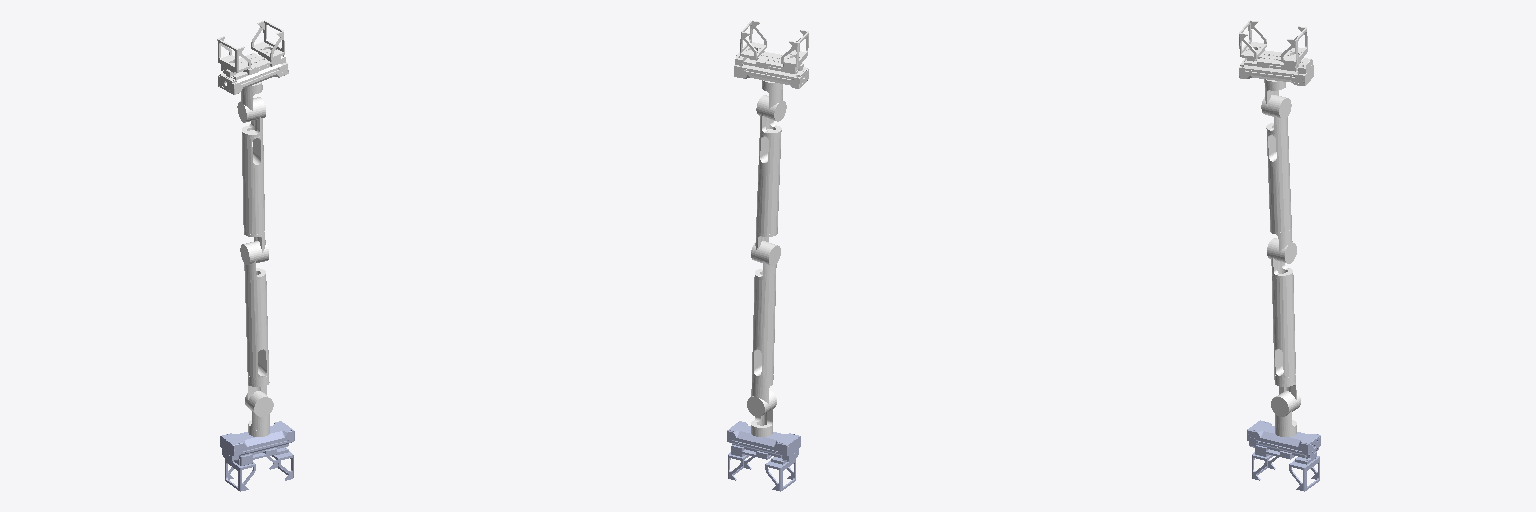
robot.urdf — X-Climbot:
<?xml version="1.0" encoding="utf-8"?>
<!-- This URDF was automatically created by SolidWorks to URDF Exporter! Originally created by [author] ([email redacted])
     Commit Version: 1.6.0-4-g7f85cfe  Build Version: 1.6.7995.38578
     For more information, please see http://wiki.ros.org/sw_urdf_exporter -->
<robot
  name="X-Climbot">
  <link
    name="base_link">
    <inertial>
      <origin
        xyz="-0.00611466525824911 1.52266048728533E-05 -0.0458797101075132"
        rpy="0 0 0" />
      <mass
        value="0.793310893293405" />
      <inertia
        ixx="0.000488697994170795"
        ixy="1.94308375834106E-05"
        ixz="-3.60314189788114E-05"
        iyy="0.0021909412575143"
        iyz="6.04087570215711E-07"
        izz="0.002362105074245" />
    </inertial>
    <visual>
      <origin
        xyz="0 0 0"
        rpy="0 0 0" />
      <geometry>
        <mesh
          filename="package://X-Climbot/meshes/base_link.STL" />
      </geometry>
      <material
        name="">
        <color
          rgba="0.792156862745098 0.819607843137255 0.933333333333333 1" />
      </material>
    </visual>
    <collision>
      <origin
        xyz="0 0 0"
        rpy="0 0 0" />
      <geometry>
        <mesh
          filename="package://X-Climbot/meshes/base_link.STL" />
      </geometry>
    </collision>
  </link>
  <link
    name="l1">
    <inertial>
      <origin
        xyz="0.000840561963848629 0.0113875783222504 0.0400824119208252"
        rpy="0 0 0" />
      <mass
        value="0.1430626016653" />
      <inertia
        ixx="0.000115582358856404"
        ixy="7.81499715910119E-07"
        ixz="-1.12848931429923E-06"
        iyy="0.000126111630974415"
        iyz="-1.52836380116219E-05"
        izz="6.00693976013135E-05" />
    </inertial>
    <visual>
      <origin
        xyz="0 0 0"
        rpy="0 0 0" />
      <geometry>
        <mesh
          filename="package://X-Climbot/meshes/l1.STL" />
      </geometry>
      <material
        name="">
        <color
          rgba="1 1 1 1" />
      </material>
    </visual>
    <collision>
      <origin
        xyz="0 0 0"
        rpy="0 0 0" />
      <geometry>
        <mesh
          filename="package://X-Climbot/meshes/l1.STL" />
      </geometry>
    </collision>
  </link>
  <joint
    name="j1"
    type="continuous">
    <origin
      xyz="0 0 0"
      rpy="0 0 3.14159265358979" />
    <parent
      link="base_link" />
    <child
      link="l1" />
    <axis
      xyz="0 0 1" />
  </joint>
  <link
    name="l2">
    <inertial>
      <origin
        xyz="-9.63287409838642E-08 -0.0114185659312045 0.0162012482514264"
        rpy="0 0 0" />
      <mass
        value="0.14306262010604" />
      <inertia
        ixx="0.000115524424034121"
        ixy="2.99294251603093E-10"
        ixz="3.5137908355297E-10"
        iyy="0.000136684035722146"
        iyz="-1.53250606329366E-05"
        izz="4.95547653168109E-05" />
    </inertial>
    <visual>
      <origin
        xyz="0 0 0"
        rpy="0 0 0" />
      <geometry>
        <mesh
          filename="package://X-Climbot/meshes/l2.STL" />
      </geometry>
      <material
        name="">
        <color
          rgba="1 1 1 1" />
      </material>
    </visual>
    <collision>
      <origin
        xyz="0 0 0"
        rpy="0 0 0" />
      <geometry>
        <mesh
          filename="package://X-Climbot/meshes/l2.STL" />
      </geometry>
    </collision>
  </link>
  <joint
    name="j2"
    type="continuous">
    <origin
      xyz="0 0 0.0800000000000001"
      rpy="0 0.0289375288126048 -0.0736872405564034" />
    <parent
      link="l1" />
    <child
      link="l2" />
    <axis
      xyz="-0.00592711844275336 -0.999982419761838 -0.000171564051519822" />
  </joint>
  <link
    name="l3">
    <inertial>
      <origin
        xyz="0.00220880087049258 -2.1811668304117E-05 0.18510895301996"
        rpy="0 0 0" />
      <mass
        value="0.731691814404623" />
      <inertia
        ixx="0.00440475743452973"
        ixy="-1.0044055556359E-07"
        ixz="-1.48112615339781E-05"
        iyy="0.00442116921181217"
        iyz="1.49284620098977E-07"
        izz="0.00038619650944185" />
    </inertial>
    <visual>
      <origin
        xyz="0 0 0"
        rpy="0 0 0" />
      <geometry>
        <mesh
          filename="package://X-Climbot/meshes/l3.STL" />
      </geometry>
      <material
        name="">
        <color
          rgba="1 1 1 1" />
      </material>
    </visual>
    <collision>
      <origin
        xyz="0 0 0"
        rpy="0 0 0" />
      <geometry>
        <mesh
          filename="package://X-Climbot/meshes/l3.STL" />
      </geometry>
    </collision>
  </link>
  <joint
    name="j3"
    type="continuous">
    <origin
      xyz="0 0 0.0800000000000013"
      rpy="0 0.000127825682332594 0.00183898988794448" />
    <parent
      link="l2" />
    <child
      link="l3" />
    <axis
      xyz="-0.000128141190019915 -0.000171566775075488 0.999999977072338" />
  </joint>
  <link
    name="l4">
    <inertial>
      <origin
        xyz="-7.88980209281281E-05 -0.00392581915723023 0.202385115747512"
        rpy="0 0 0" />
      <mass
        value="0.832342235325522" />
      <inertia
        ixx="0.00452334968366428"
        ixy="1.23051855615029E-07"
        ixz="-3.46298344597399E-10"
        iyy="0.00452809686716942"
        iyz="-9.28294510352387E-11"
        izz="0.000411899190458377" />
    </inertial>
    <visual>
      <origin
        xyz="0 0 0"
        rpy="0 0 0" />
      <geometry>
        <mesh
          filename="package://X-Climbot/meshes/l4.STL" />
      </geometry>
      <material
        name="">
        <color
          rgba="1 1 1 1" />
      </material>
    </visual>
    <collision>
      <origin
        xyz="0 0 0"
        rpy="0 0 0" />
      <geometry>
        <mesh
          filename="package://X-Climbot/meshes/l4.STL" />
      </geometry>
    </collision>
  </link>
  <joint
    name="j4"
    type="continuous">
    <origin
      xyz="-4.87188928522952E-05 -7.89207165349803E-05 0.379999990106851"
      rpy="0.000127841608446275 -0.0185670506826425 -1.58057542076899" />
    <parent
      link="l3" />
    <child
      link="l4" />
    <axis
      xyz="0 -0.999999999999073 0" />
  </joint>
  <link
    name="l5">
    <inertial>
      <origin
        xyz="7.87788012611979E-05 -0.0114172583221583 0.0162035655941422"
        rpy="0 0 0" />
      <mass
        value="0.143061922937318" />
      <inertia
        ixx="0.000115524003812258"
        ixy="-1.60426335855584E-10"
        ixz="2.87594107321105E-10"
        iyy="0.000136683650857311"
        iyz="-1.53255513436982E-05"
        izz="4.95552955488083E-05" />
    </inertial>
    <visual>
      <origin
        xyz="0 0 0"
        rpy="0 0 0" />
      <geometry>
        <mesh
          filename="package://X-Climbot/meshes/l5.STL" />
      </geometry>
      <material
        name="">
        <color
          rgba="1 1 1 1" />
      </material>
    </visual>
    <collision>
      <origin
        xyz="0 0 0"
        rpy="0 0 0" />
      <geometry>
        <mesh
          filename="package://X-Climbot/meshes/l5.STL" />
      </geometry>
    </collision>
  </link>
  <joint
    name="j5"
    type="continuous">
    <origin
      xyz="0 0 0.439999999999592"
      rpy="0 0.0129068765606677 3.14159265358979" />
    <parent
      link="l4" />
    <child
      link="l5" />
    <axis
      xyz="0 0.999999999999073 0" />
  </joint>
  <link
    name="l6">
    <inertial>
      <origin
        xyz="-0.00580435778022192 -1.44530285602351E-05 0.0435513914361469"
        rpy="0 0 0" />
      <mass
        value="0.835722425678761" />
      <inertia
        ixx="0.000502039940519556"
        ixy="-1.94308094117804E-05"
        ixz="3.60314117214751E-05"
        iyy="0.00220428328751165"
        iyz="6.04087755501375E-07"
        izz="0.00238596164743948" />
    </inertial>
    <visual>
      <origin
        xyz="0 0 0"
        rpy="0 0 0" />
      <geometry>
        <mesh
          filename="package://X-Climbot/meshes/l6.STL" />
      </geometry>
      <material
        name="">
        <color
          rgba="1 1 1 1" />
      </material>
    </visual>
    <collision>
      <origin
        xyz="0 0 0"
        rpy="0 0 0" />
      <geometry>
        <mesh
          filename="package://X-Climbot/meshes/l6.STL" />
      </geometry>
    </collision>
  </link>
  <joint
    name="j6"
    type="continuous">
    <origin
      xyz="7.8879062170939E-05 0 0.0800024903265206"
      rpy="0 0 -1.32134118739776" />
    <parent
      link="l5" />
    <child
      link="l6" />
    <axis
      xyz="0 0 -0.999999999999073" />
  </joint>
</robot>

--- Facts derived from the render (not from the file) ---
3 views of the same robot in one strip: view 1: azimuth 30°, elevation 25°; view 2: azimuth 150°, elevation 25°; view 3: azimuth 330°, elevation 25° (orthographic).
Model X-Climbot with 7 links and 6 joints (6 continuous), rooted at base_link, posed every joint at zero.
Links seen in each view (by area): view 1: l6, l4, l3, base_link, l1, l5; view 2: l6, l4, l3, base_link, l2, l5, l1; view 3: l4, l6, l3, base_link, l1.
Link boxes in pixels (x1,y1,x2,y2): l6: [217, 20, 288, 94]; l4: [242, 97, 268, 262]; l3: [240, 243, 268, 384]; base_link: [220, 421, 294, 491]; l1: [248, 394, 273, 436]; l5: [237, 88, 262, 122]; l6: [734, 20, 808, 89]; l4: [751, 95, 781, 262]; l3: [752, 243, 780, 384]; base_link: [727, 421, 800, 491]; l2: [747, 382, 772, 416]; l5: [762, 87, 786, 121]; l1: [751, 390, 776, 436]; l4: [1266, 97, 1296, 263]; l6: [1239, 20, 1313, 87]; l3: [1267, 238, 1295, 383]; base_link: [1247, 420, 1320, 491]; l1: [1271, 394, 1296, 436].
Size in the robot's own frame: 0.2182 by 0.1158 by 1.37 metres.
7 mesh visuals loaded from 7 distinct referenced files (7 binary STL).